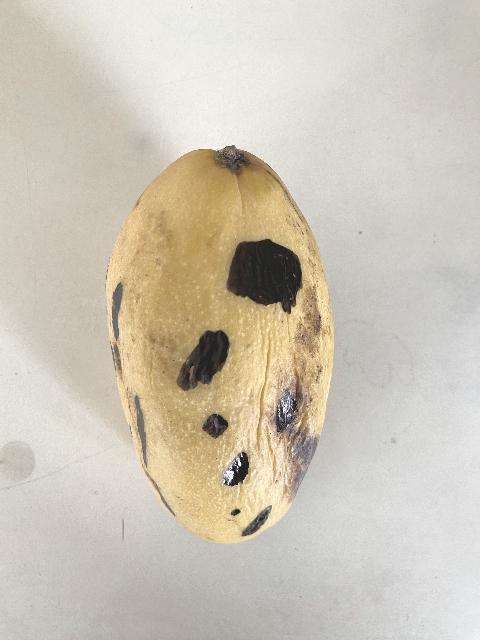Mango Overripe: (92, 107, 348, 572)
